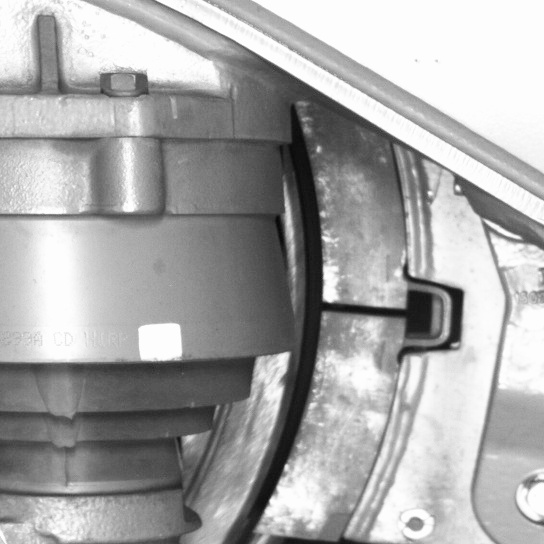KnifeSwitch: (220, 137, 416, 542)
